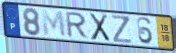6: (136, 16, 154, 47)
8: (22, 7, 42, 37)
M: (41, 8, 68, 39)
R: (65, 11, 90, 40)
X: (88, 12, 112, 43)
Z: (110, 14, 134, 45)
